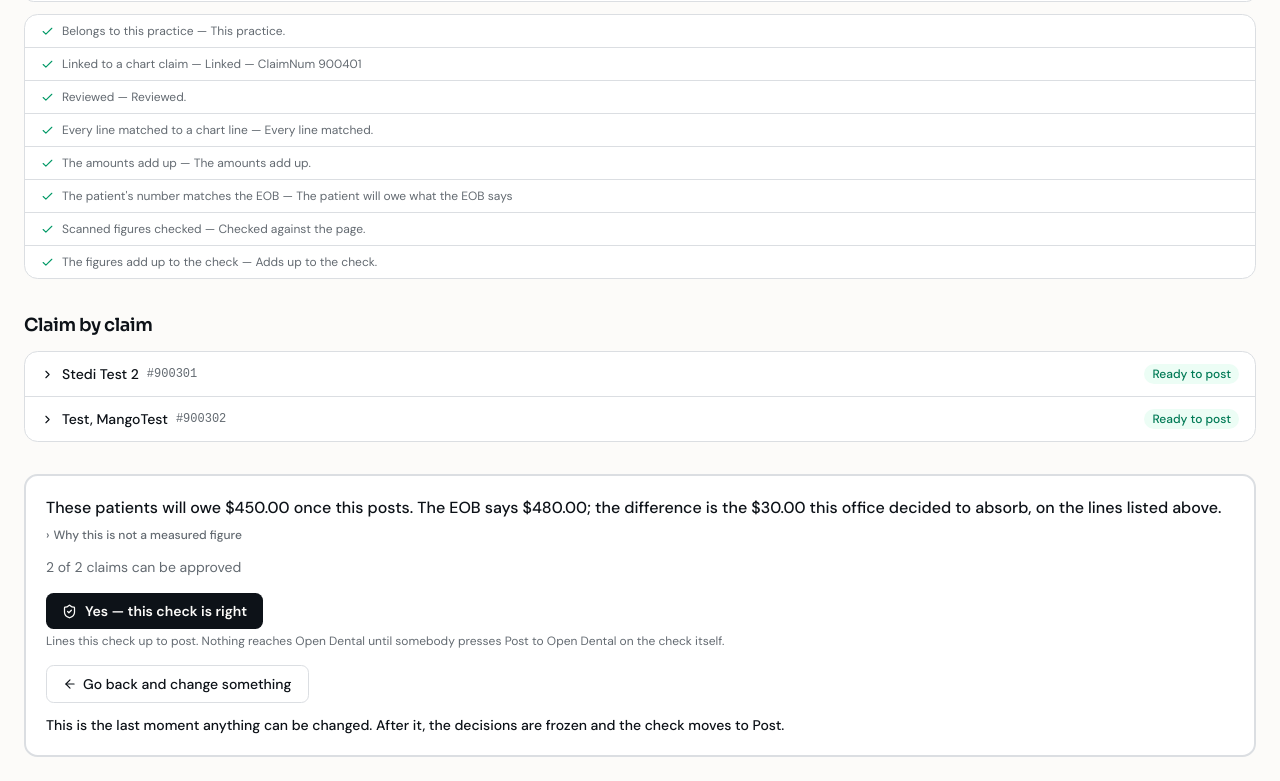
Scenario: 1 · enter a check, the whole road › 1.15 Before you say yes: the checklist is the gate's conditions only, and the totals are the rows
The image size is (1280, 781).
(page scrolled)
Click the button with test id "approve-button" at coordinates (155, 611), box left=46, top=593, right=263, bottom=629
(page scrolled)
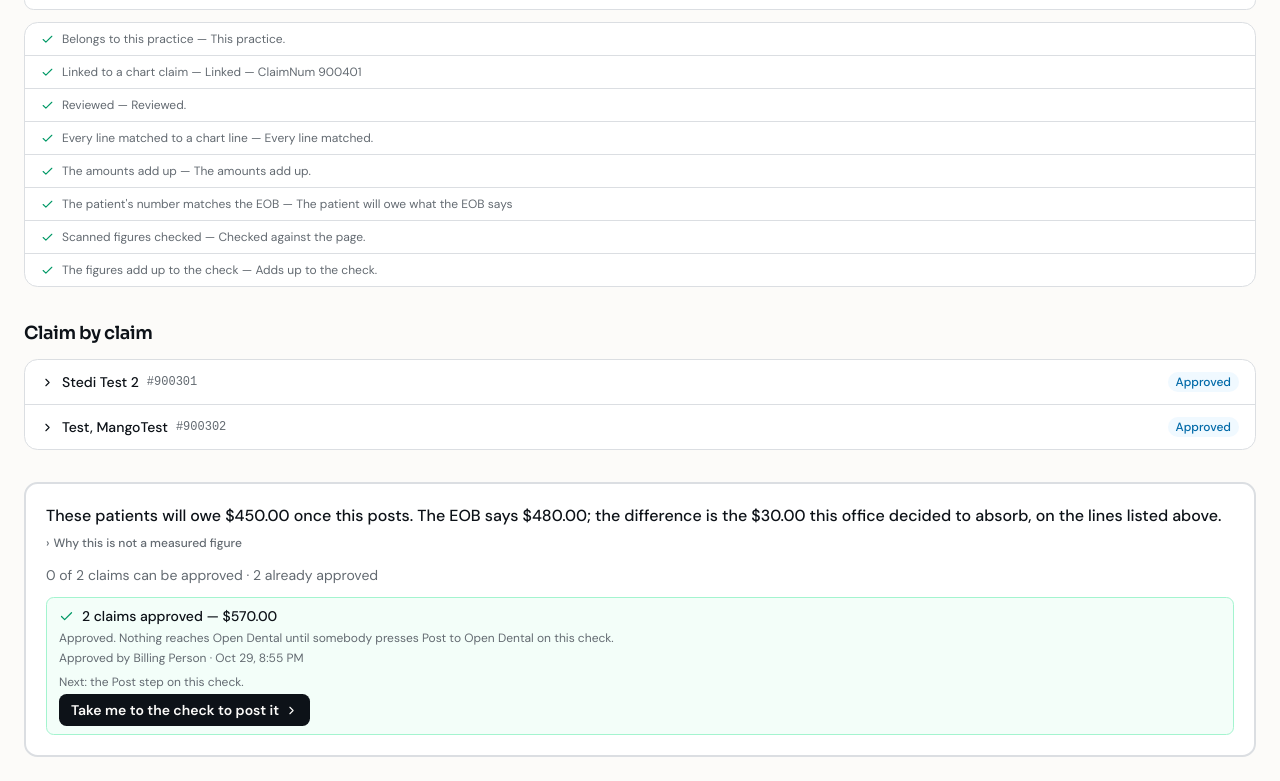
Result: the element with test id "approve-result" shows "2 claims approved — $570.00" at left=46, top=597, right=1234, bottom=735
